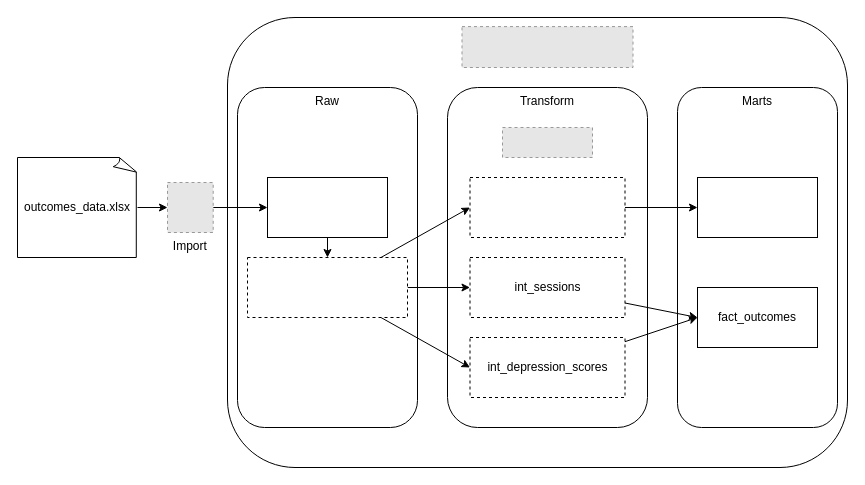
Some shapes in this 865 by 485 pixel diagram are drawn without their labels. Grey dashed boxes stand in for pictures. The shapes that lost their labels are listed below. From the top down, each one's centre as x and y in pixels, then its label:
At (x=327, y=207): "outcomes".
At (x=547, y=207): "int_patient_demographics".
At (x=757, y=207): "dim_demographics".
At (x=327, y=287): "stg_raw__outcomes".
